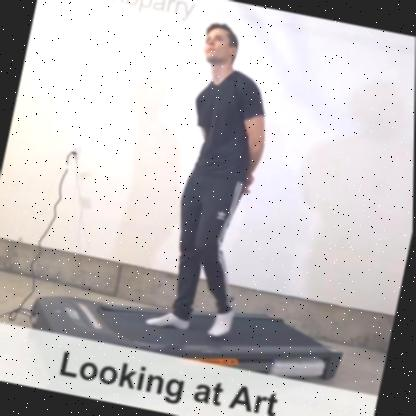person: (125, 12, 302, 346)
